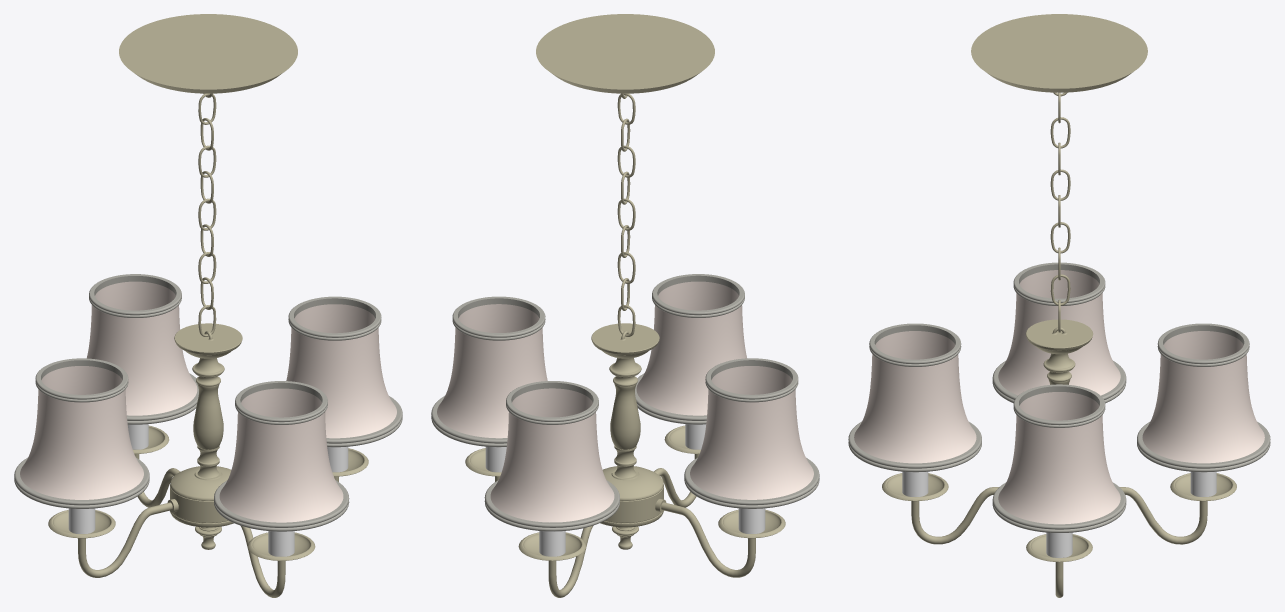
Rendered from 380_シャンデリア.glb.
The picture shows the model from 3 angles, left to right: view 1: azimuth 30°, elevation 25°; view 2: azimuth 150°, elevation 25°; view 3: azimuth 270°, elevation 25°; orthographic projection.
Visible parts, largest first — view 1: 380_シャンデリア; view 2: 380_シャンデリア; view 3: 380_シャンデリア.
Part boxes in pixels (x1,y1,x2,y2): 380_シャンデリア: (14, 14, 402, 597); 380_シャンデリア: (431, 14, 819, 597); 380_シャンデリア: (848, 14, 1270, 597).
Size of the model in its own units: 0.644 by 0.8298 by 0.644.
